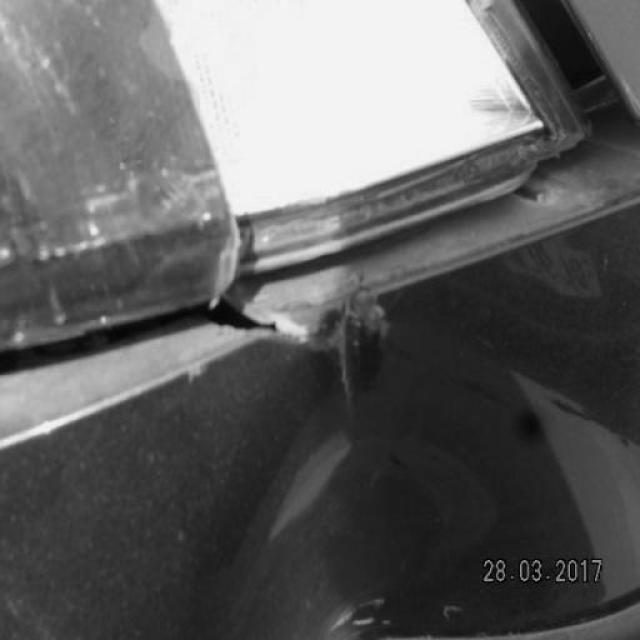car damage: (281, 285, 407, 366), (197, 295, 301, 343)
